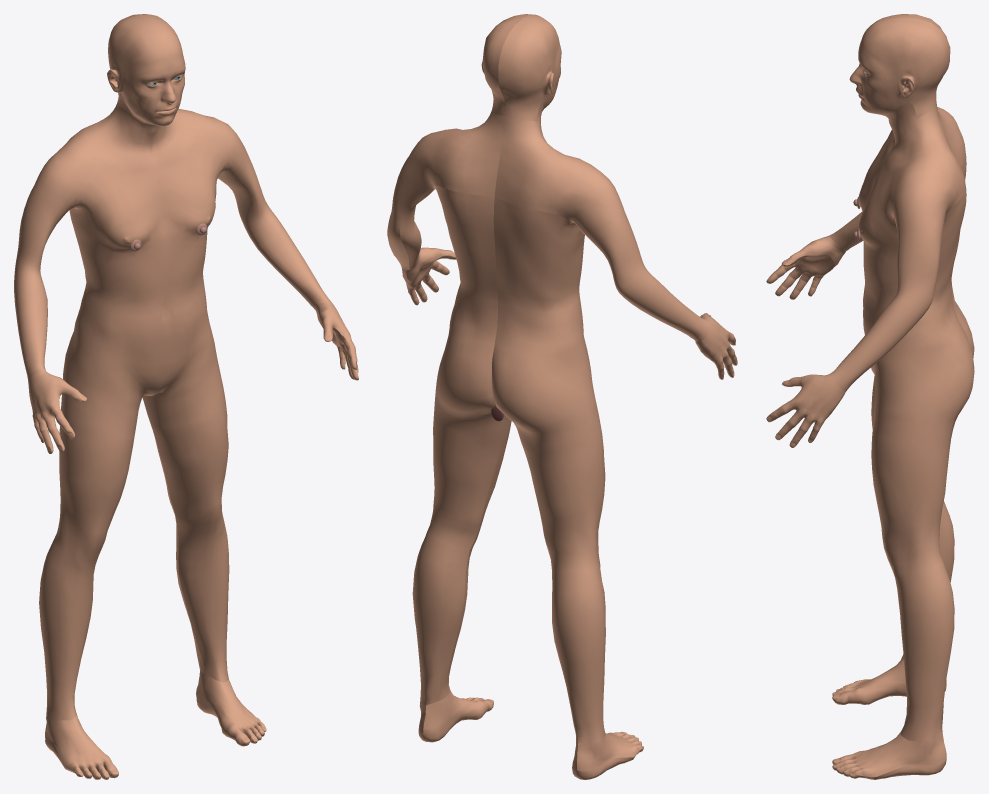
Rendered from body-erwachsener-divers-unbekannt-keine-brueste-real-v3.glb.
The picture shows the model from 3 angles, left to right: view 1: azimuth 30°, elevation 25°; view 2: azimuth 150°, elevation 25°; view 3: azimuth 270°, elevation 25°; orthographic projection.
Parts seen in each view (by area): view 1: real-human-body; view 2: real-human-body; view 3: real-human-body.
Part boxes in pixels (bbox=[...]): real-human-body: bbox=[14, 14, 358, 779]; real-human-body: bbox=[387, 14, 737, 779]; real-human-body: bbox=[766, 14, 974, 779].
Size of the model in its own units: 0.7837 by 1.72 by 0.4518.
Materials: 7 (1 with a texture image).
